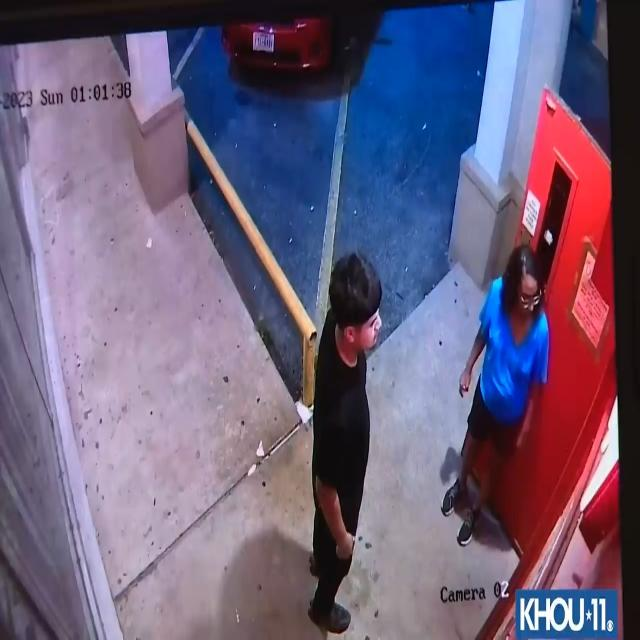Person: (443, 237, 565, 550), (308, 256, 389, 624)
